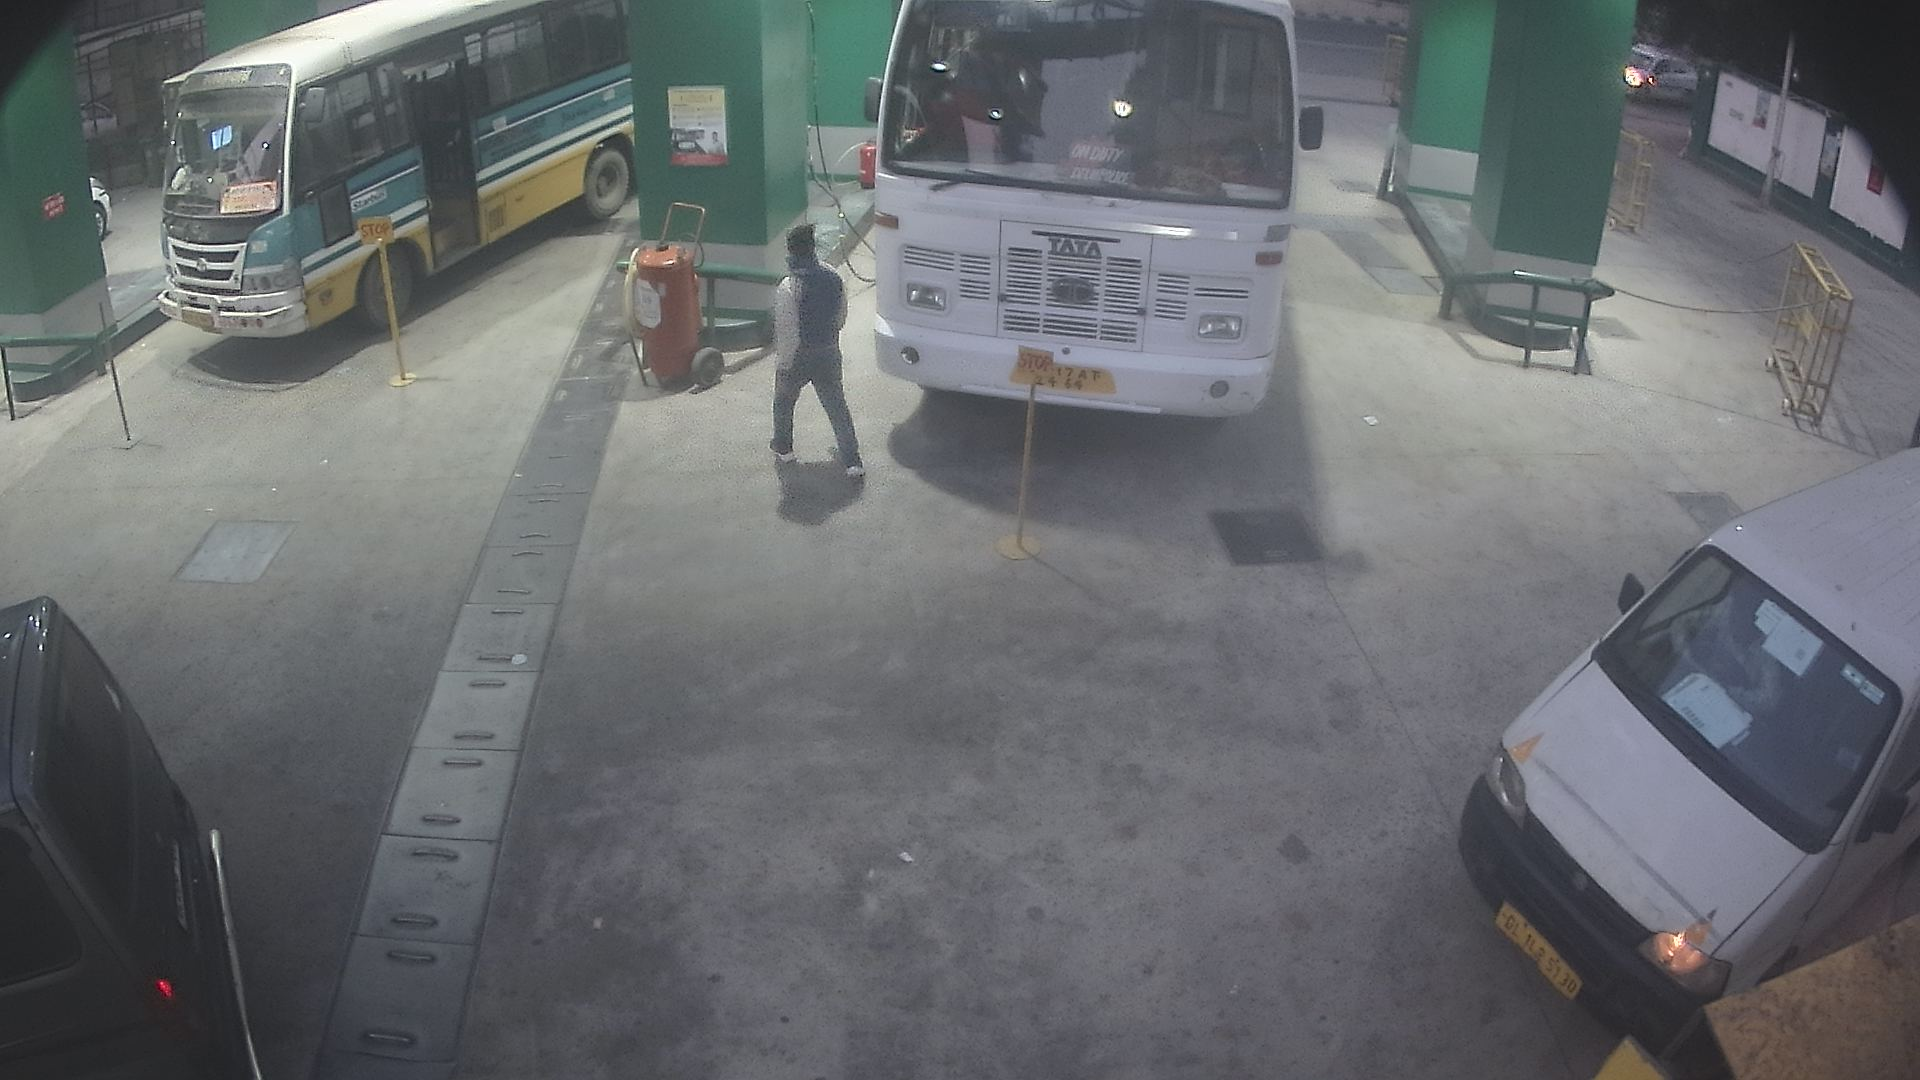Car: (1444, 417, 1917, 1077), (0, 543, 289, 1080), (1597, 16, 1714, 125), (67, 138, 140, 278)
HMV: (831, 0, 1332, 430), (121, 1, 647, 367)
Others Other: (980, 322, 1073, 570), (349, 191, 433, 402), (84, 281, 149, 459)
